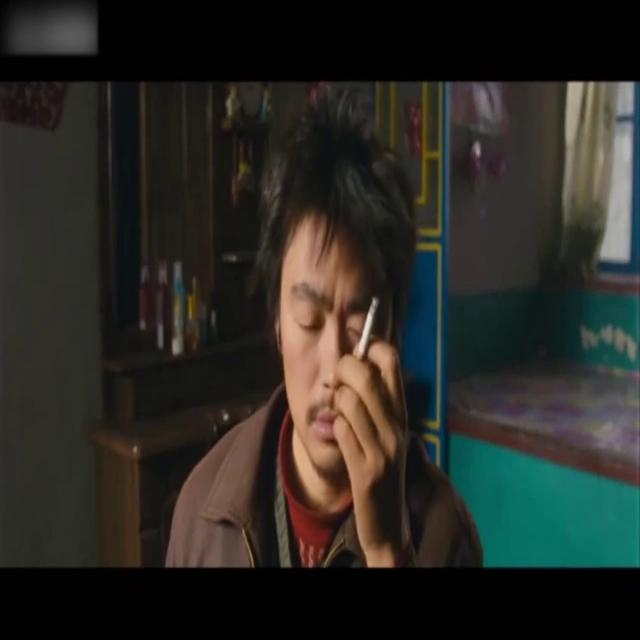smoking: (354, 294, 379, 360)
